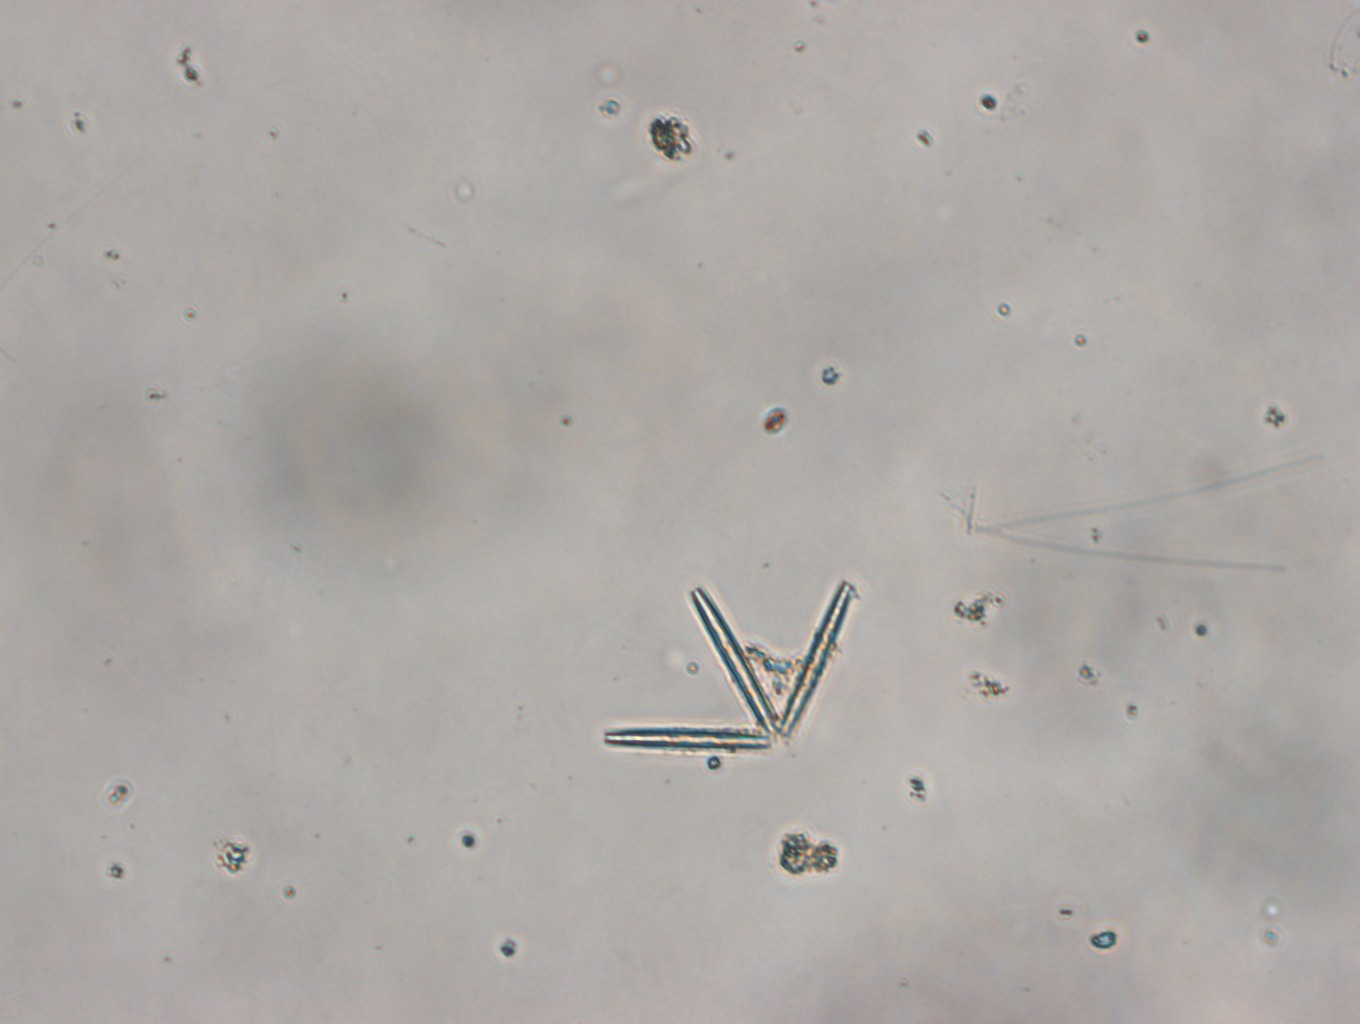thalassionema nitzschioides: (601, 578, 857, 753)
